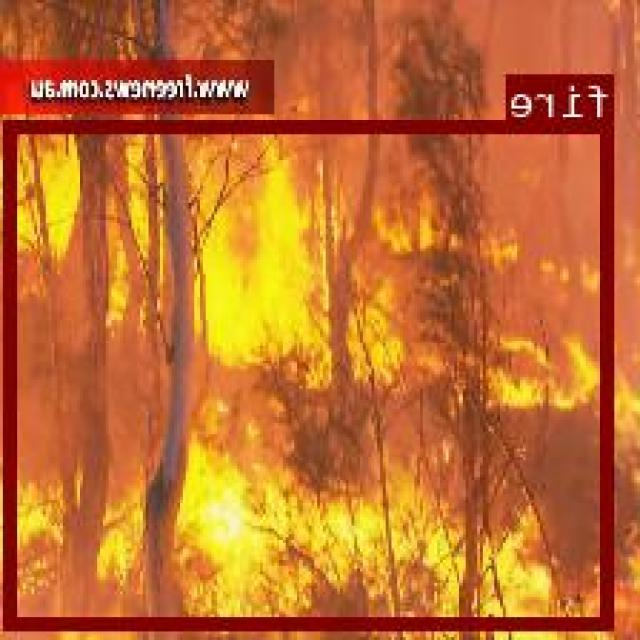fire: (8, 119, 616, 627)
